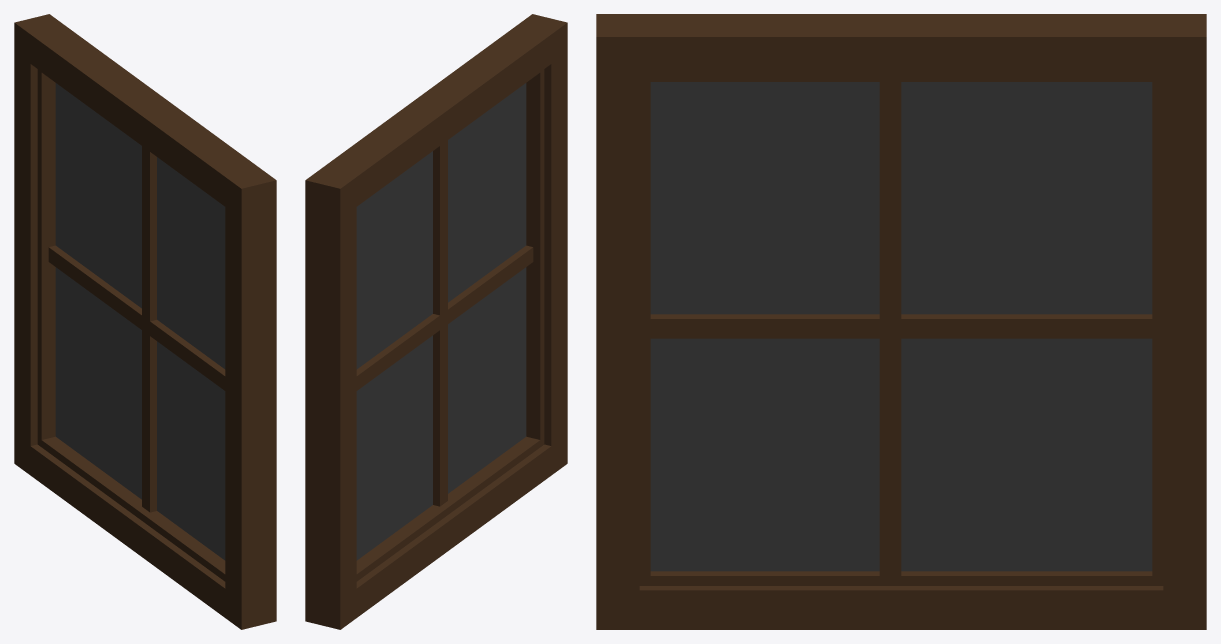
Rendered from Window.glb.
3 renders of one model, left to right at view 1: azimuth 30°, elevation 25°; view 2: azimuth 150°, elevation 25°; view 3: azimuth 270°, elevation 25°, orthographic. The views are drawn at different scales.
Visible parts, largest first — view 1: Node-Mesh_1, Node-Mesh; view 2: Node-Mesh_1, Node-Mesh; view 3: Node-Mesh, Node-Mesh_1.
Boxes of the visible parts, left/top/right/bottom form: Node-Mesh_1: left=14, top=14, right=276, bottom=629; Node-Mesh: left=55, top=83, right=225, bottom=560; Node-Mesh_1: left=305, top=14, right=567, bottom=629; Node-Mesh: left=356, top=83, right=526, bottom=560; Node-Mesh: left=650, top=82, right=1152, bottom=571; Node-Mesh_1: left=596, top=14, right=1206, bottom=629.
Bounding box in the file's own units: 0.05 × 0.6 × 0.56.
